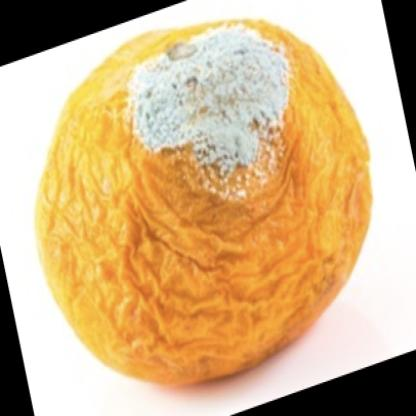rotten: (39, 20, 373, 389)
